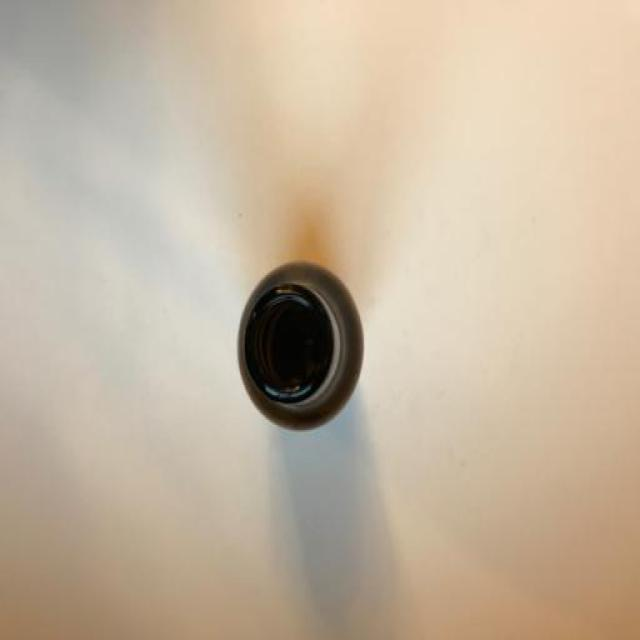glass: (236, 260, 365, 430)
